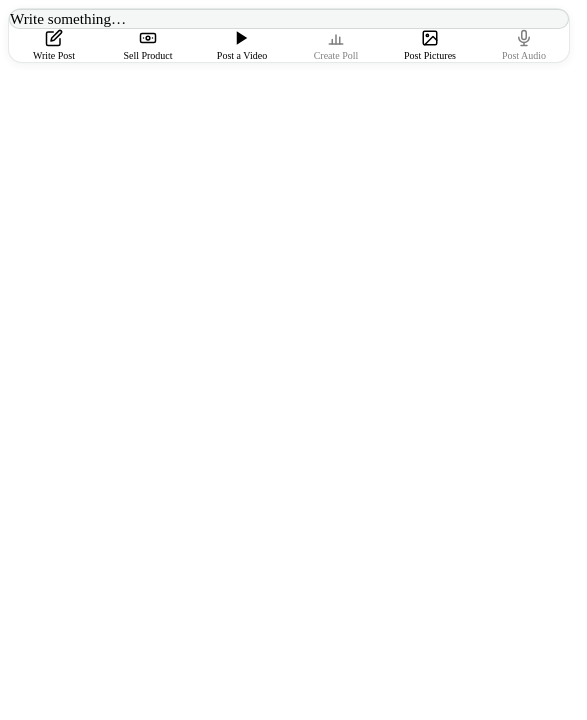
Scenario: ComposerBox › tool row › "Write Post" expands straight into Post mode
Click the button with test id "composer-tool-write".
click(54, 46)  # box [9, 29, 99, 62]
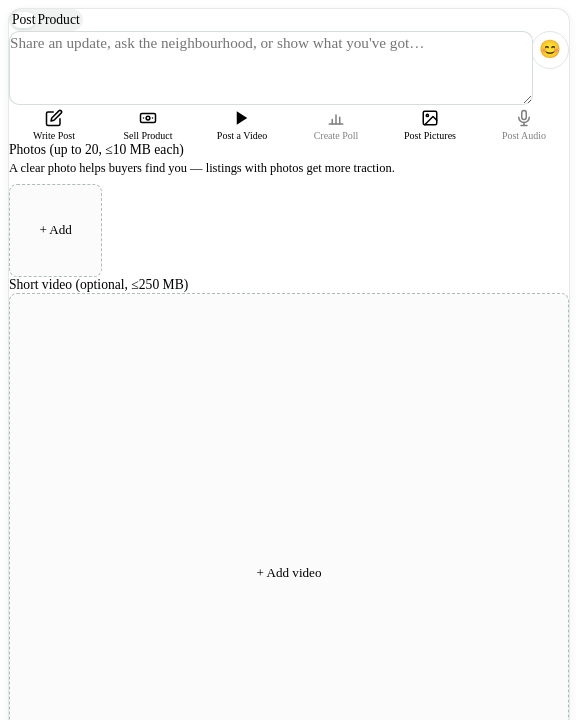
Check: the text box with test id "composer-body" is shown, box [9, 31, 533, 105]
